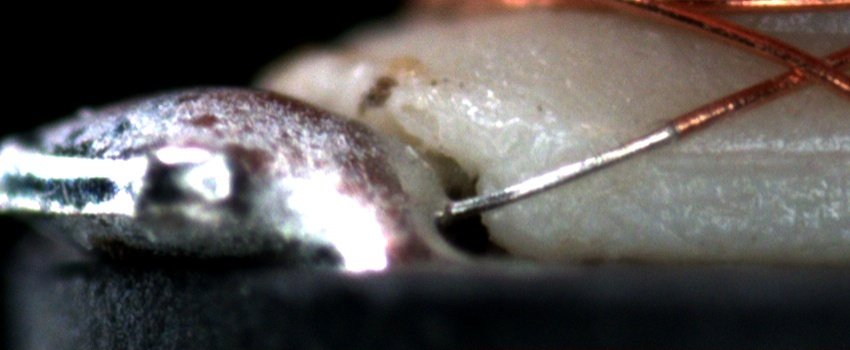CL: (762, 40, 846, 96)
DL: (666, 127, 850, 183)
TS: (451, 121, 678, 215)
